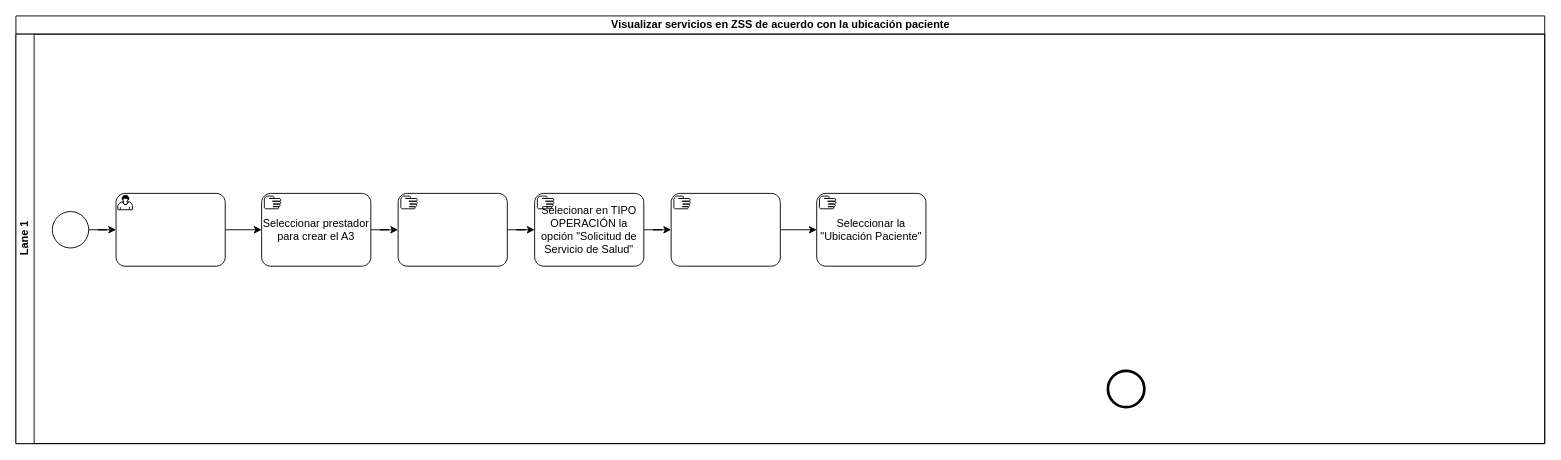
This 1561x460 diagram has some shape labels left out. Here are the shapes that lost their labels. From the top down, the box of each, then its label:
(115, 192, 225, 266): Ingresar a ZSP modulo "Atención al Usuario"
(397, 192, 507, 266): Buscar el afiliado al que se quiere crear el A3
(670, 192, 780, 266): Ingresar el origen de atención, el tipo de servicios solicitados
